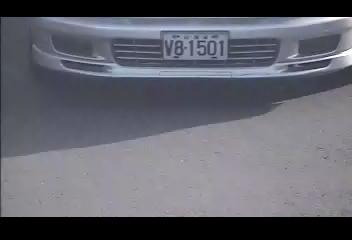plate: (160, 31, 230, 62)
